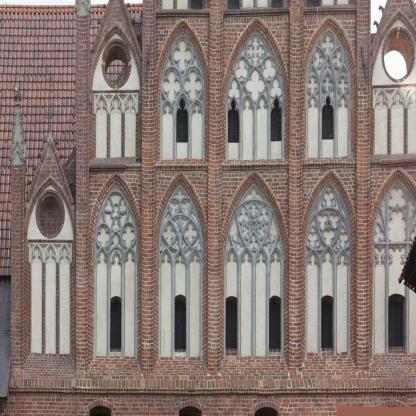Building Outline: (0, 0, 416, 416)
Facade: (0, 0, 415, 405)
Floor: (11, 193, 416, 384), (77, 79, 416, 184)
Floor Slab: (10, 385, 416, 393), (77, 185, 416, 193)
Roof: (0, 3, 76, 277), (90, 4, 107, 53), (127, 2, 143, 18)
Window: (388, 294, 406, 347), (225, 295, 238, 349), (174, 294, 186, 350), (269, 295, 281, 349), (321, 295, 333, 349), (110, 296, 122, 349), (176, 98, 188, 143), (322, 96, 334, 140), (228, 99, 239, 143), (271, 98, 282, 142), (89, 406, 111, 416), (254, 407, 278, 416), (179, 407, 201, 415)
